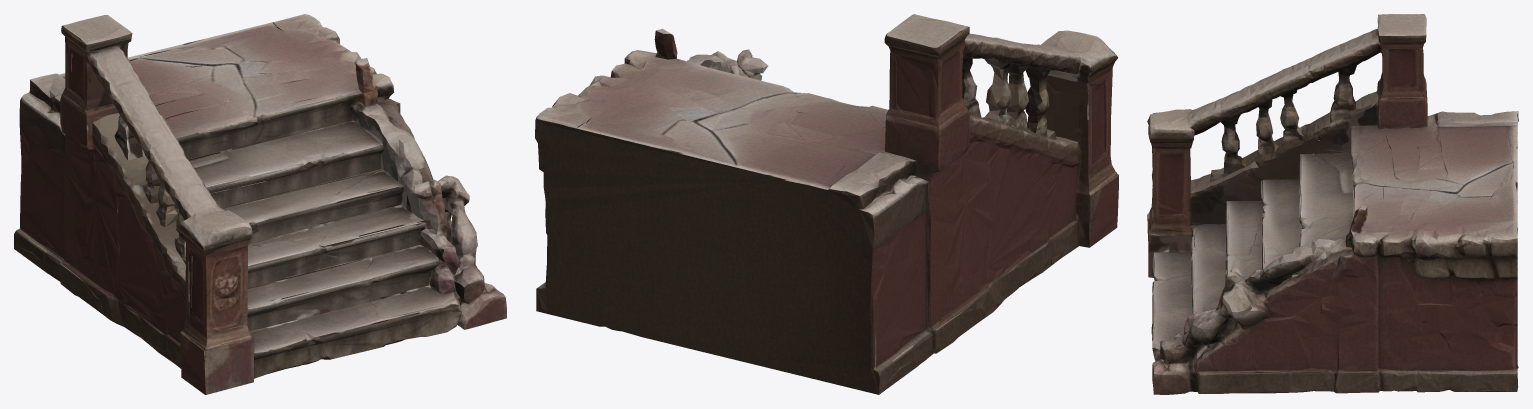
The model's file is park_broken_stair_1117.glb.
The picture shows the model from 3 angles, left to right: view 1: azimuth 30°, elevation 25°; view 2: azimuth 150°, elevation 25°; view 3: azimuth 270°, elevation 25°; orthographic projection. The views are drawn at different scales.
Visible parts, largest first — view 1: world; view 2: world; view 3: world.
Part boxes in pixels (<box>): world: <box>14,14,506,394</box>; world: <box>535,14,1118,394</box>; world: <box>1147,14,1518,394</box>.
Size of the model in its own units: 1.25 by 1 by 1.38.
Materials: 1 (1 with a texture image).
